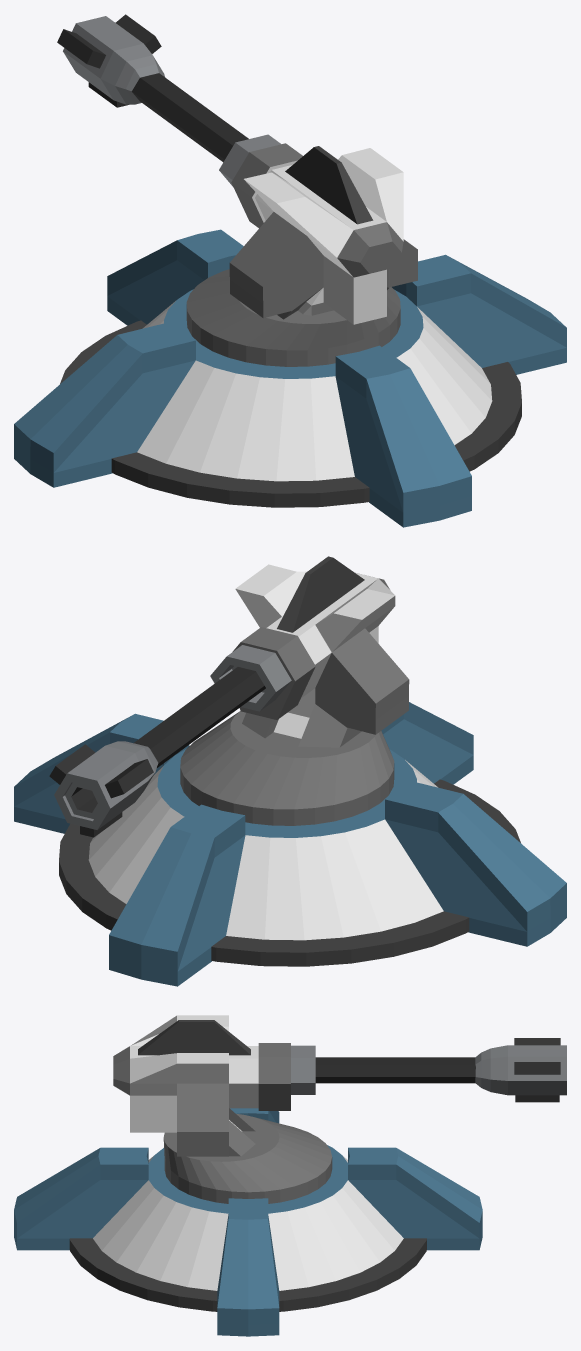
The model's file is HeavyTower.fbx.
3 views of the same model, one above another, from view 1: azimuth 30°, elevation 25°; view 2: azimuth 150°, elevation 25°; view 3: azimuth 270°, elevation 25° (orthographic). The views are drawn at different scales.
Visible parts, largest first — view 1: BasePlatform, MainGun, BasePlatform.001, Barrel, GunBase; view 2: BasePlatform, MainGun, GunBase, Barrel, BasePlatform.001; view 3: BasePlatform, MainGun, Barrel, GunBase, BasePlatform.001.
Boxes of the visible parts, x1,y1,x2,y2 form: BasePlatform: [14, 229, 566, 527]; MainGun: [229, 143, 417, 324]; BasePlatform.001: [60, 320, 521, 507]; Barrel: [57, 14, 281, 186]; GunBase: [186, 269, 400, 366]; BasePlatform: [14, 702, 566, 986]; MainGun: [232, 556, 409, 747]; GunBase: [180, 711, 394, 825]; Barrel: [49, 645, 291, 837]; BasePlatform.001: [59, 779, 520, 966]; BasePlatform: [14, 1108, 482, 1336]; MainGun: [113, 1015, 290, 1156]; Barrel: [291, 1038, 566, 1102]; GunBase: [163, 1113, 332, 1203]; BasePlatform.001: [69, 1238, 426, 1311].
Size of the model in its own units: 704 by 361 by 830.
